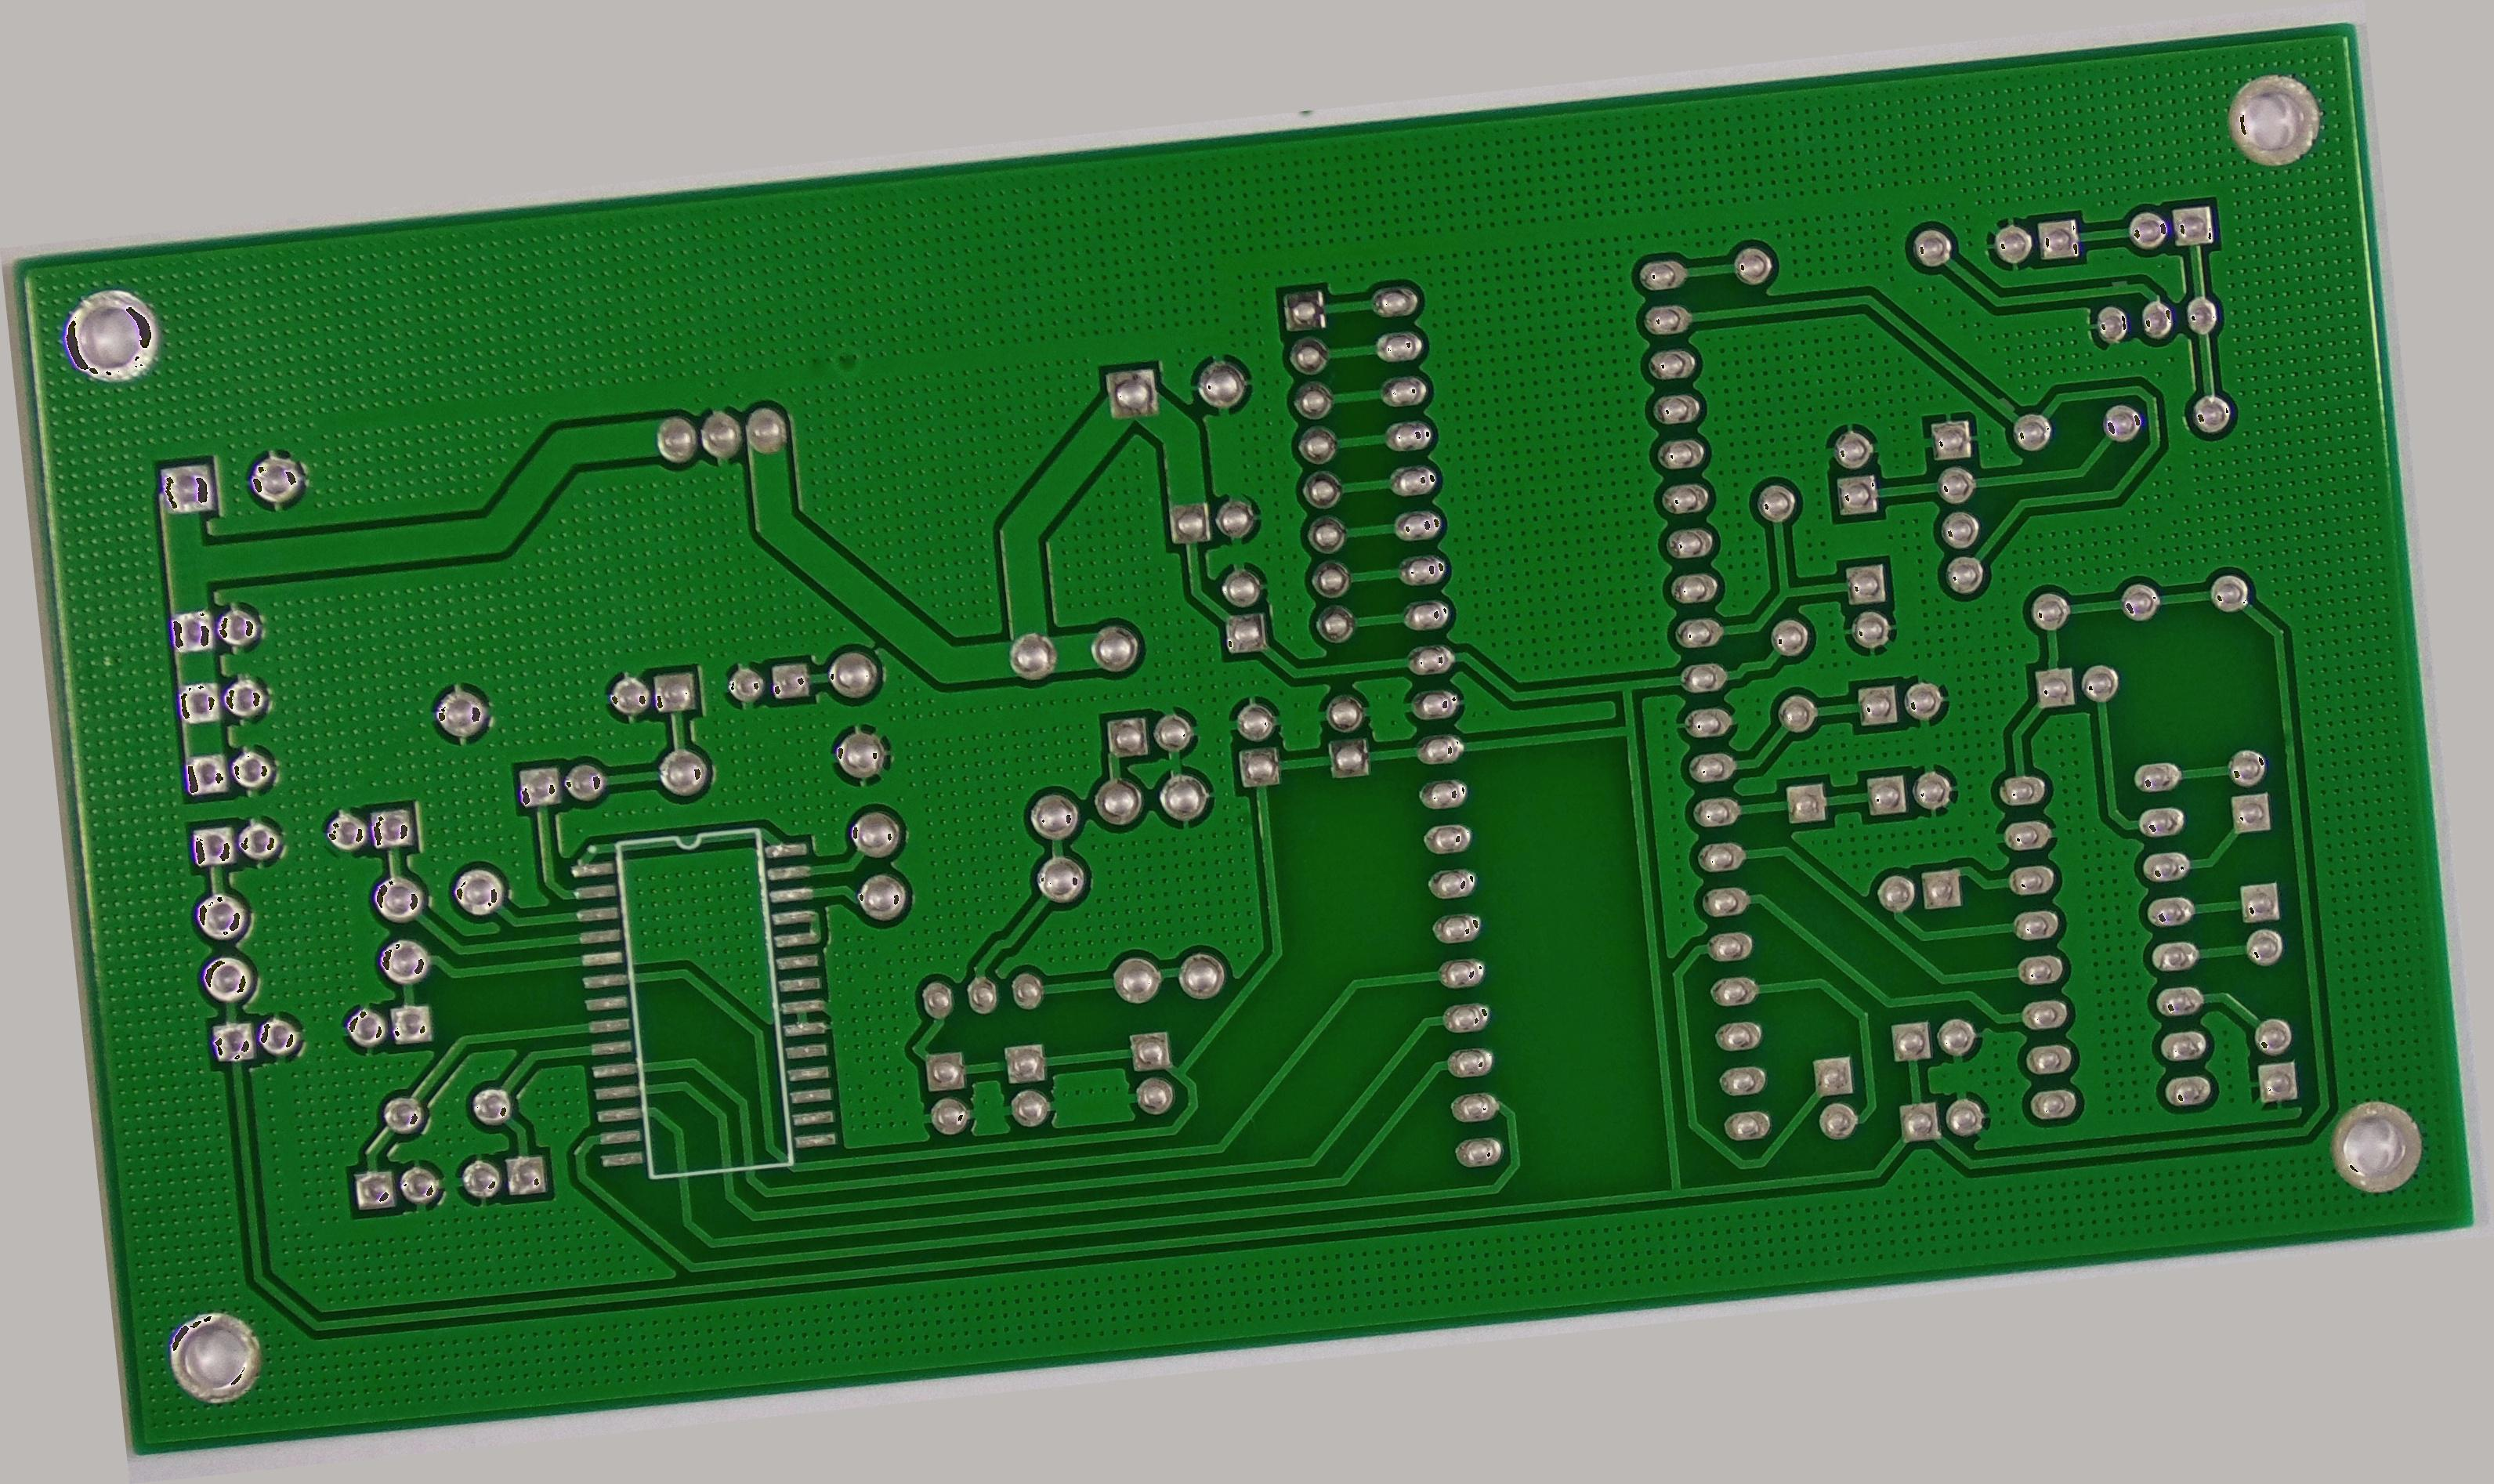spur: (1982, 383, 2022, 424), (2105, 270, 2135, 297)
